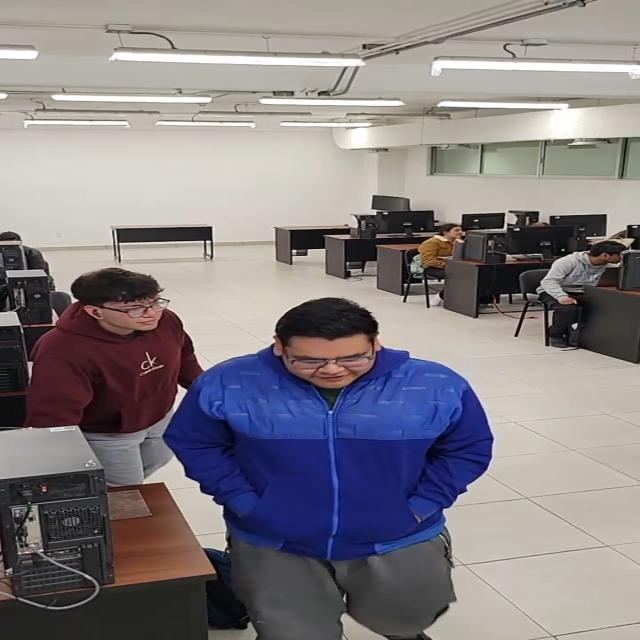Persona: (196, 282, 508, 639), (27, 244, 205, 456)
